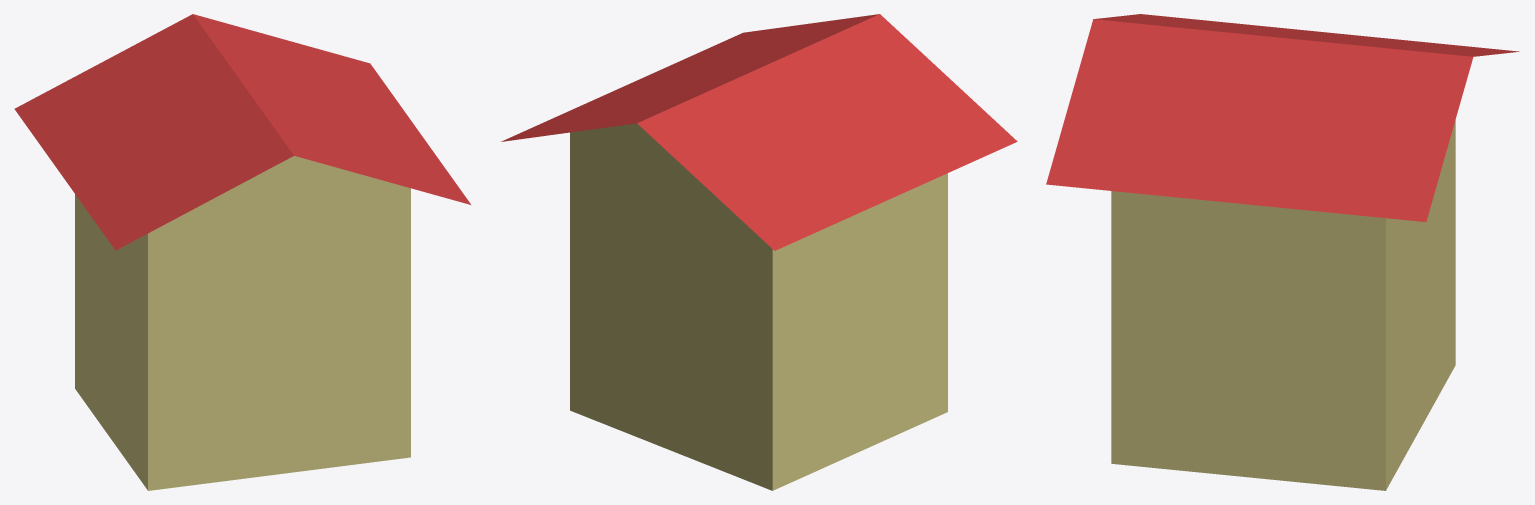
3 renders of one model, left to right at view 1: azimuth 30°, elevation 25°; view 2: azimuth 150°, elevation 25°; view 3: azimuth 270°, elevation 25°, orthographic. The views are drawn at different scales.
Parts seen in each view (by area): view 1: group_5, group_3, group_4; view 2: group_5, group_3, group_4; view 3: group_5, group_3, group_4.
Part boxes in pixels (x1=…): group_5: x1=75, y1=156, x2=410, y2=490; group_3: x1=14, y1=14, x2=410, y2=249; group_4: x1=14, y1=14, x2=470, y2=250; group_5: x1=570, y1=123, x2=947, y2=490; group_3: x1=570, y1=14, x2=1002, y2=250; group_4: x1=501, y1=14, x2=1017, y2=250; group_5: x1=1111, y1=120, x2=1455, y2=490; group_3: x1=1046, y1=19, x2=1519, y2=221; group_4: x1=1046, y1=14, x2=1515, y2=221.
Size of the model in its own units: 13.63 by 13.14 by 11.5.
